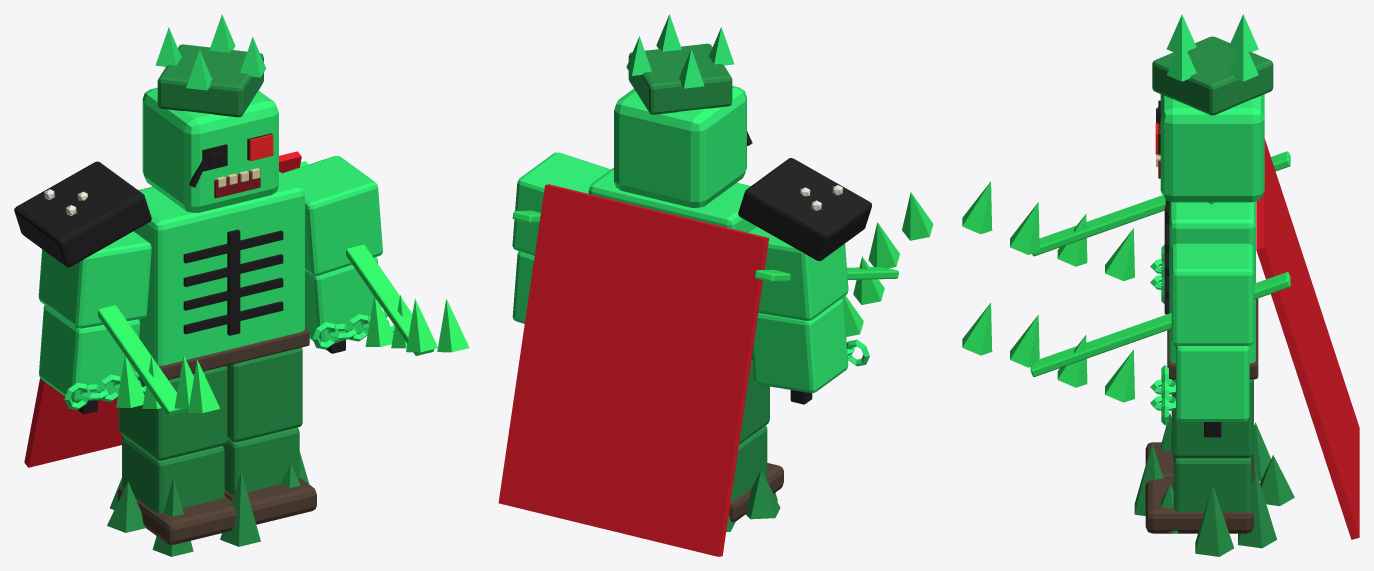
The model's file is jefe_1x1x1x1.fbx.
3 views of the same model, side by side, from view 1: azimuth 30°, elevation 25°; view 2: azimuth 150°, elevation 25°; view 3: azimuth 270°, elevation 25° (orthographic). The views are drawn at different scales.
Visible parts, largest first — view 1: Torso, LeftArm, Head, RightArm, LeftLeg, RightLeg; view 2: Torso, LeftArm, Head, RightArm, LeftLeg; view 3: Torso, RightArm, Head, RightLeg, LeftArm, LeftLeg.
Boxes of the visible parts, x1,y1,x2,y2 form: Torso: (24,151,309,556); LeftArm: (14,161,220,416); Head: (142,14,278,212); RightArm: (282,156,469,355); LeftLeg: (117,366,236,544); RightLeg: (223,347,316,524); Torso: (498,167,780,556); LeftArm: (738,158,933,404); Head: (614,14,752,208); RightArm: (512,152,610,323); LeftLeg: (728,360,783,522); Torso: (1134,139,1359,556); RightArm: (962,243,1290,437); Head: (1152,14,1273,202); RightLeg: (1145,379,1253,533); LeftArm: (962,151,1290,303); LeftLeg: (1145,442,1253,481).
Size of the model in its own units: 1375 by 1853 by 1377.
Materials: 1 (1 with a texture image).
